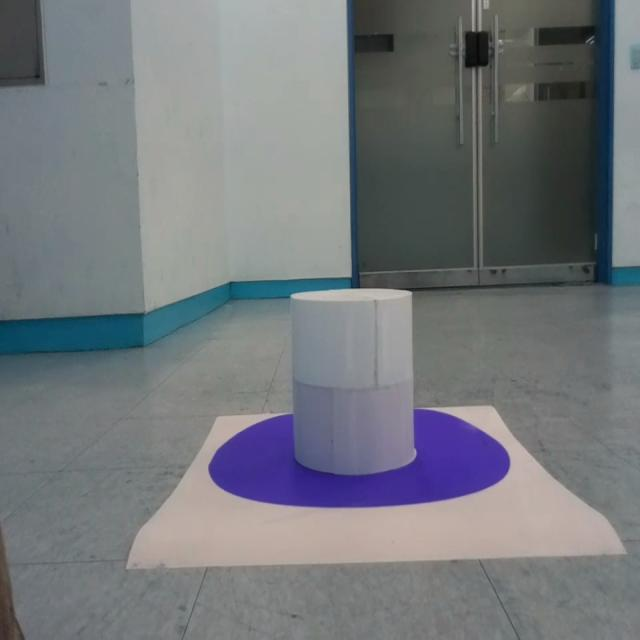cylinder: (290, 289, 414, 476)
